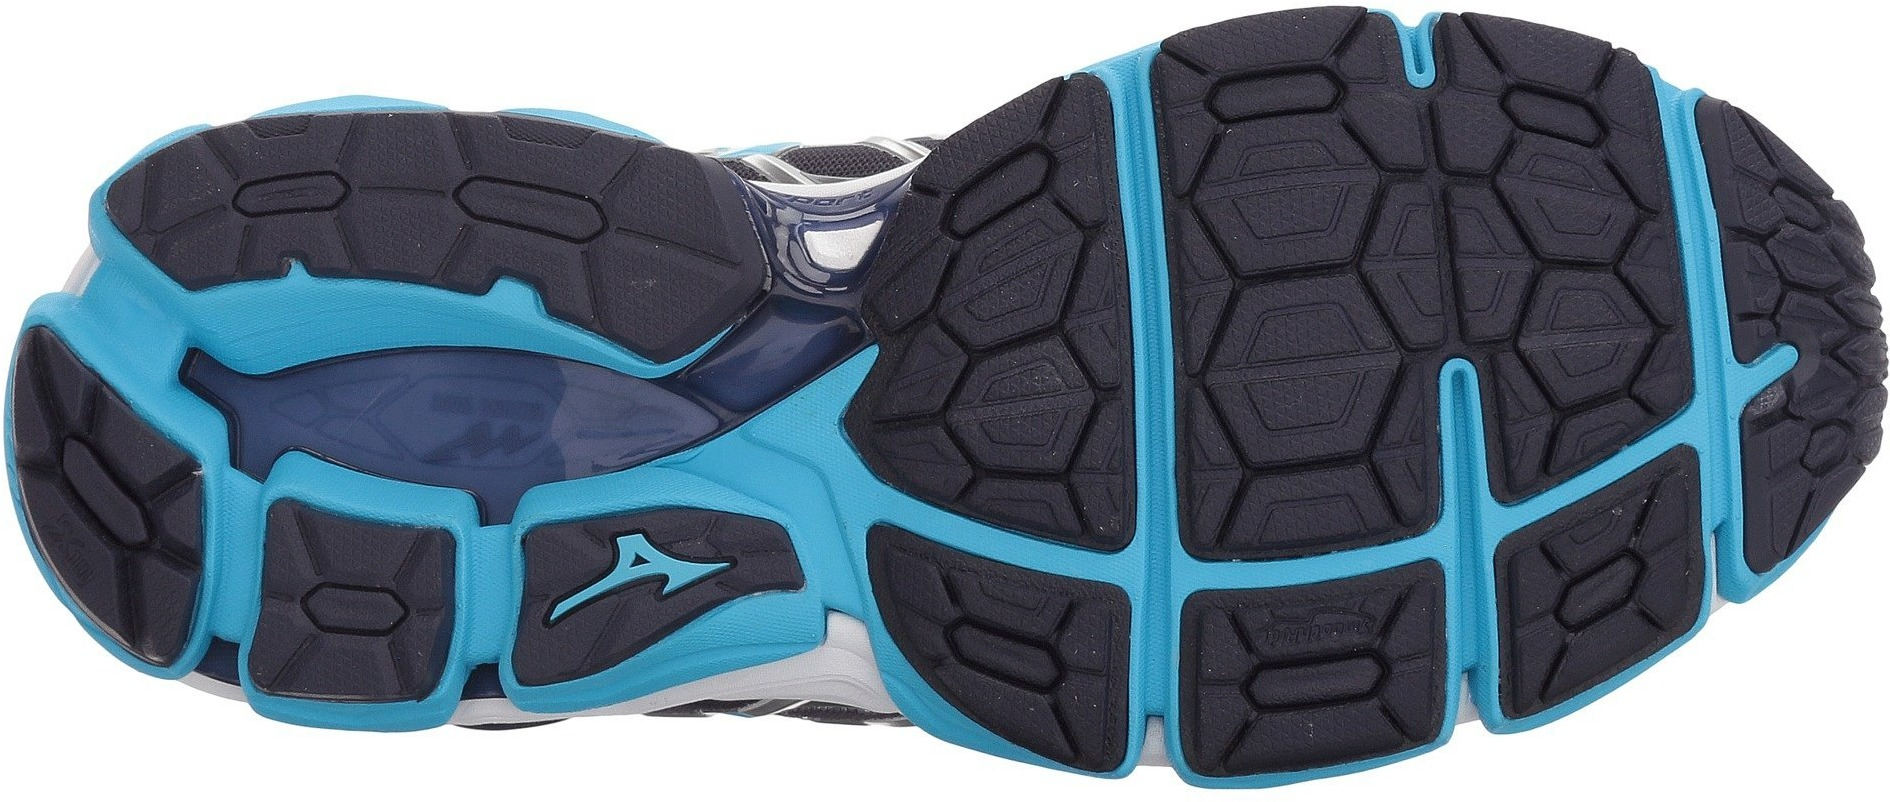polygon: (1202, 273, 1410, 481), (1186, 109, 1384, 283), (944, 330, 1094, 473), (305, 576, 411, 638)
quad: (1151, 8, 1452, 568), (849, 55, 1122, 554), (1436, 19, 1692, 500), (1193, 557, 1448, 773), (242, 504, 459, 701)
